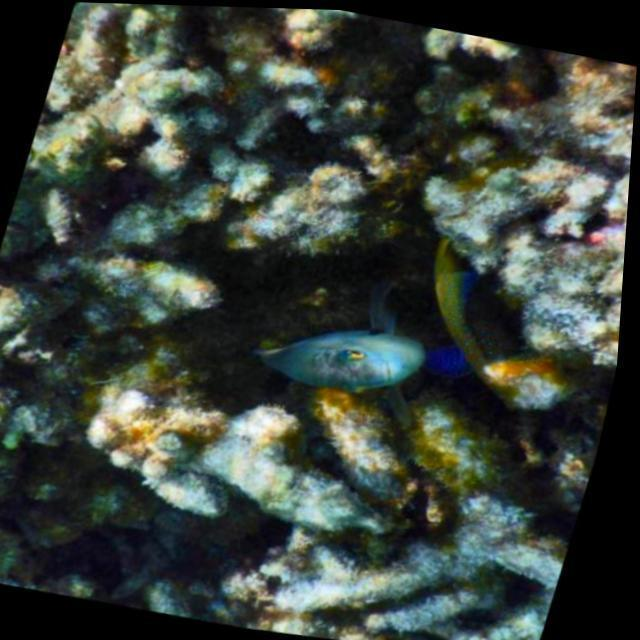Dead Coral: (0, 0, 459, 559), (352, 20, 640, 373), (249, 441, 590, 640), (23, 1, 219, 194)
